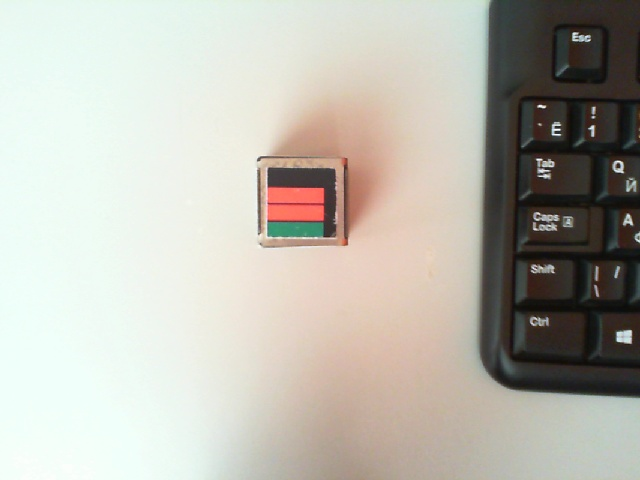square: (267, 169, 336, 238)
